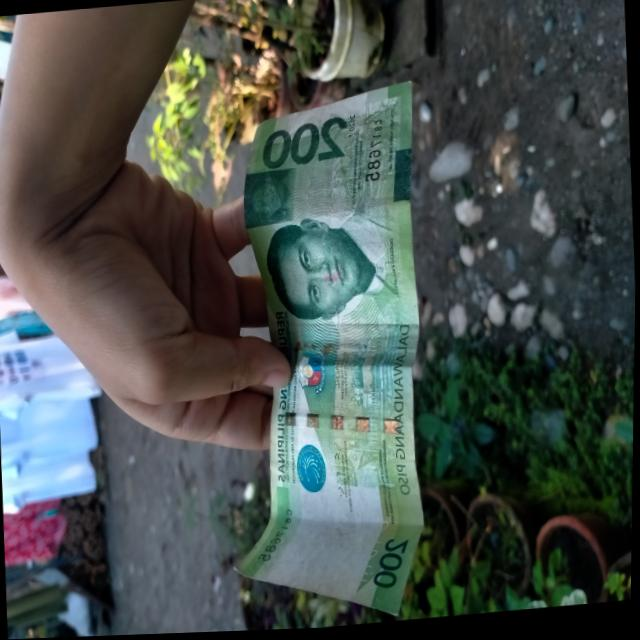concealed_value: (239, 169, 294, 231)
security_thread: (272, 401, 414, 447)
see_through_mark: (356, 513, 395, 588)
serial_number: (254, 506, 302, 569), (359, 111, 391, 188)
value: (259, 117, 351, 176)
